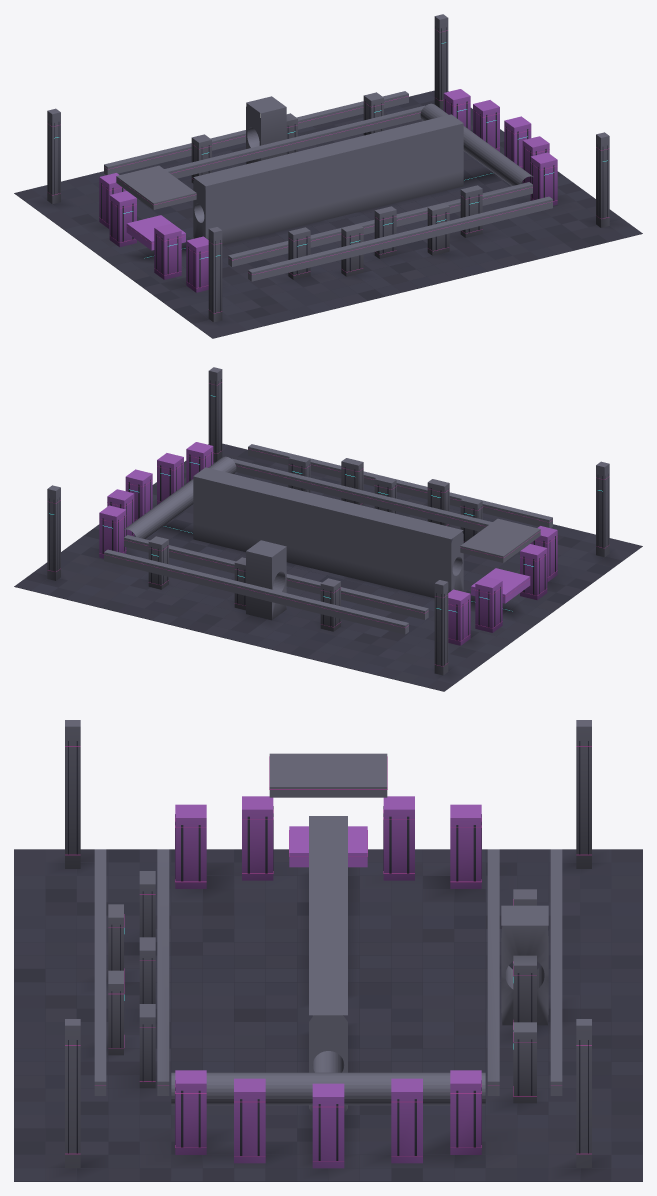
The model's file is 01_world.glb.
The picture shows the model from 3 angles, top to bottom: view 1: azimuth 30°, elevation 25°; view 2: azimuth 150°, elevation 25°; view 3: azimuth 270°, elevation 25°; orthographic projection. The views are drawn at different scales.
Parts seen in each view (by area): view 1: world_10_body_nocol, world_01_floor_noshadow_nocol, world_11_floor_noshadow_nocol, world_11_body_nocol, world_00_floor_noshadow_nocol, world_01_body_nocol, world_01_foam_nocol, world_11_foam_nocol, world_10_floor_noshadow_nocol, world_00_foam_nocol, world_00_body_nocol, world_10_foam_nocol (+6 smaller); view 2: world_10_body_nocol, world_00_floor_noshadow_nocol, world_10_floor_noshadow_nocol, world_11_body_nocol, world_01_floor_noshadow_nocol, world_01_body_nocol, world_11_foam_nocol, world_01_foam_nocol, world_00_foam_nocol, world_11_floor_noshadow_nocol, world_00_body_nocol, world_10_foam_nocol (+6 smaller); view 3: world_11_floor_noshadow_nocol, world_10_floor_noshadow_nocol, world_01_floor_noshadow_nocol, world_00_floor_noshadow_nocol, world_10_body_nocol, world_11_body_nocol, world_01_body_nocol, world_11_foam_nocol, world_01_foam_nocol, world_10_foam_nocol, world_00_foam_nocol, world_00_body_nocol (+4 smaller).
Part boxes in pixels (left/top/right/bottom): world_10_body_nocol: left=104, top=14, right=463, bottom=245; world_01_floor_noshadow_nocol: left=113, top=220, right=427, bottom=338; world_11_floor_noshadow_nocol: left=326, top=171, right=642, bottom=287; world_11_body_nocol: left=228, top=103, right=609, bottom=281; world_00_floor_noshadow_nocol: left=14, top=147, right=246, bottom=265; world_01_body_nocol: left=116, top=165, right=363, bottom=322; world_01_foam_nocol: left=126, top=215, right=208, bottom=292; world_11_foam_nocol: left=504, top=116, right=557, bottom=205; world_10_floor_noshadow_nocol: left=227, top=90, right=504, bottom=179; world_00_foam_nocol: left=99, top=173, right=136, bottom=247; world_00_body_nocol: left=47, top=108, right=211, bottom=204; world_10_foam_nocol: left=443, top=89, right=499, bottom=151; world_10_body_nocol: left=47, top=467, right=463, bottom=634; world_00_floor_noshadow_nocol: left=229, top=573, right=543, bottom=691; world_10_floor_noshadow_nocol: left=14, top=524, right=330, bottom=640; world_11_body_nocol: left=123, top=367, right=552, bottom=538; world_01_floor_noshadow_nocol: left=408, top=502, right=642, bottom=618; world_01_body_nocol: left=427, top=461, right=609, bottom=562; world_11_foam_nocol: left=125, top=442, right=213, bottom=521; world_01_foam_nocol: left=471, top=526, right=557, bottom=603; world_00_foam_nocol: left=448, top=576, right=502, bottom=645; world_11_floor_noshadow_nocol: left=152, top=443, right=427, bottom=532; world_00_body_nocol: left=320, top=578, right=448, bottom=675; world_10_foam_nocol: left=99, top=489, right=134, bottom=558; world_11_floor_noshadow_nocol: left=14, top=1008, right=328, bottom=1181; world_10_floor_noshadow_nocol: left=328, top=1008, right=642, bottom=1181; world_01_floor_noshadow_nocol: left=14, top=849, right=308, bottom=1014; world_00_floor_noshadow_nocol: left=348, top=849, right=642, bottom=1014; world_10_body_nocol: left=309, top=816, right=591, bottom=1168; world_11_body_nocol: left=65, top=849, right=485, bottom=1168; world_01_body_nocol: left=65, top=720, right=387, bottom=970; world_11_foam_nocol: left=175, top=1070, right=344, bottom=1168; world_01_foam_nocol: left=175, top=796, right=367, bottom=888; world_10_foam_nocol: left=391, top=1070, right=481, bottom=1163; world_00_foam_nocol: left=383, top=796, right=481, bottom=888; world_00_body_nocol: left=513, top=720, right=591, bottom=905.
Bounding box in the file's own units: 200 × 40.12 × 160.
